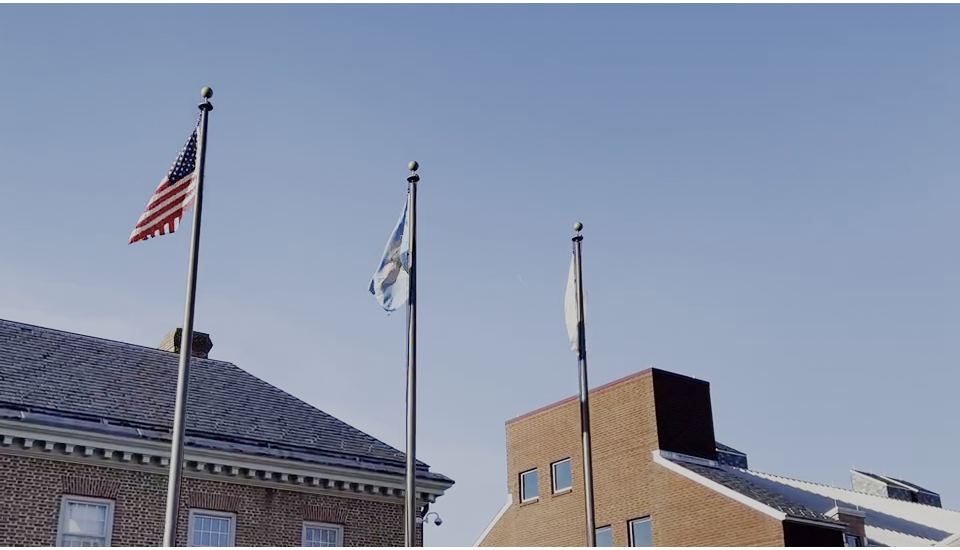America flag: (130, 112, 200, 245)
Delaware flag: (368, 193, 413, 315)
